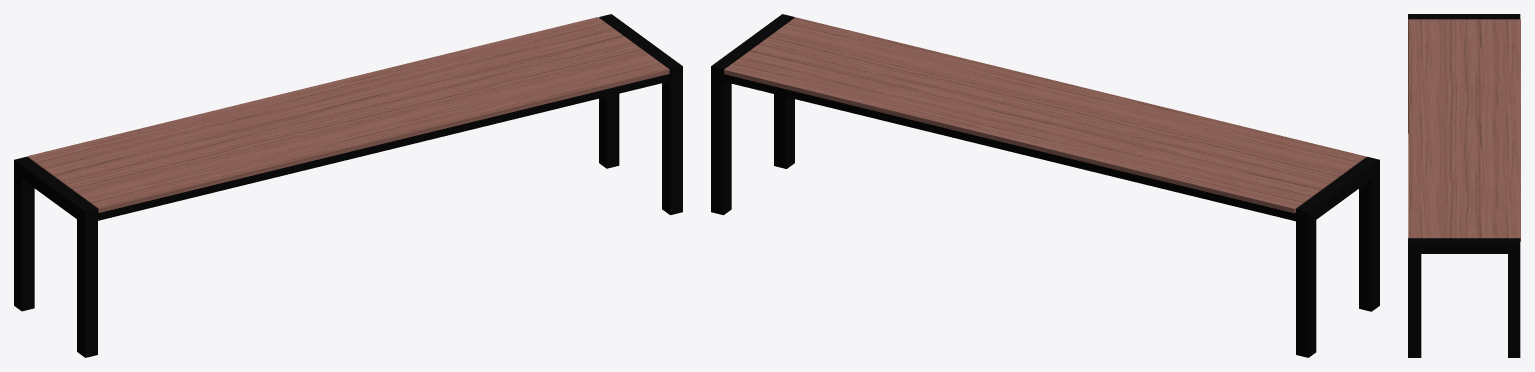
The model's file is 009_Butaca_Ankara.glb.
3 views of the same model, side by side, from view 1: azimuth 30°, elevation 25°; view 2: azimuth 150°, elevation 25°; view 3: azimuth 270°, elevation 25° (orthographic). The views are drawn at different scales.
Parts seen in each view (by area): view 1: Box060; view 2: Box060; view 3: Box060.
Boxes of the visible parts, <box> form: Box060: <box>14,14,682,357</box>; Box060: <box>711,14,1379,357</box>; Box060: <box>1408,14,1520,357</box>.
Bounding box in the file's own units: 1.93 × 0.4495 × 0.4004.
Materials: 2 (1 with a texture image).
